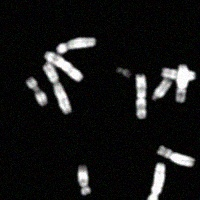chromosome: (43, 62, 71, 114), (44, 52, 83, 81), (158, 145, 194, 167), (147, 163, 165, 200), (57, 37, 95, 54), (26, 77, 47, 107), (135, 75, 146, 119), (175, 65, 188, 102), (161, 67, 195, 80), (78, 166, 92, 196), (151, 78, 170, 99), (116, 67, 129, 78)
